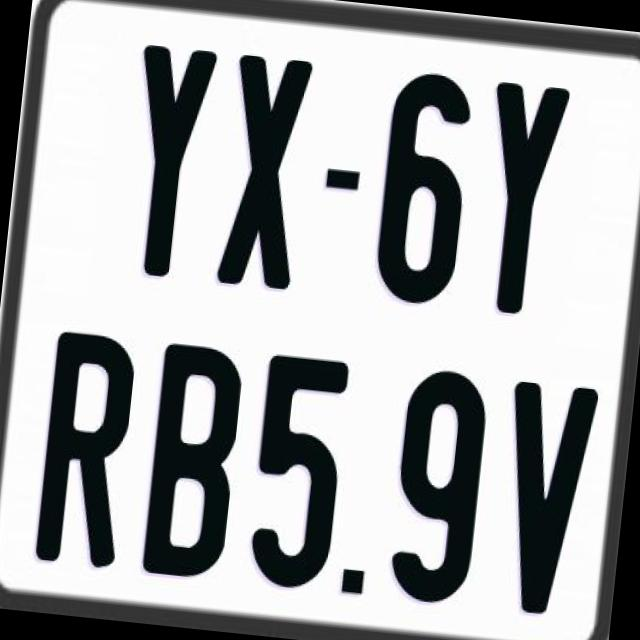5: (243, 354, 352, 592)
6: (370, 69, 473, 313)
9: (383, 364, 492, 604)
B: (142, 338, 248, 578)
R: (32, 326, 134, 565)
V: (491, 379, 602, 622)
X: (214, 54, 318, 293)
Y: (470, 76, 574, 317), (117, 42, 215, 279)
